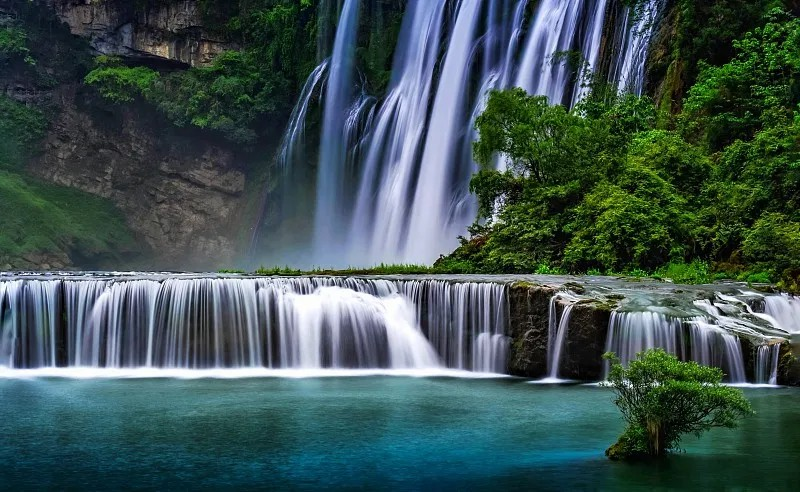Huangguoshu: (281, 1, 656, 268)
